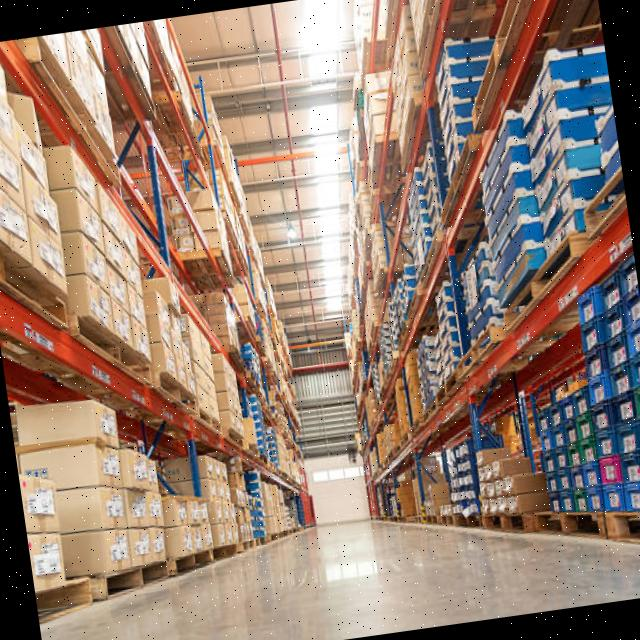Wooden-Pallets: (493, 225, 579, 345), (464, 0, 529, 137), (66, 303, 153, 390), (95, 548, 174, 613), (532, 506, 609, 544), (175, 537, 220, 589), (160, 371, 202, 421)
